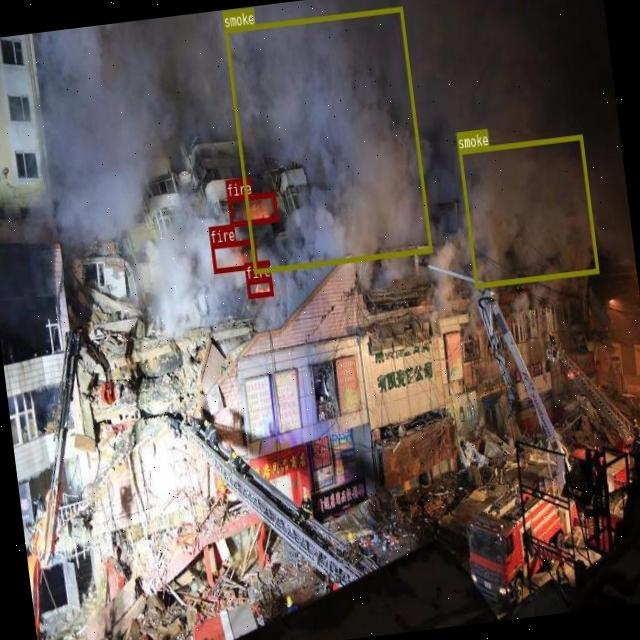fire: (226, 192, 278, 226), (210, 238, 257, 272), (245, 276, 272, 298)
smoke: (224, 6, 432, 272), (457, 134, 598, 287)
